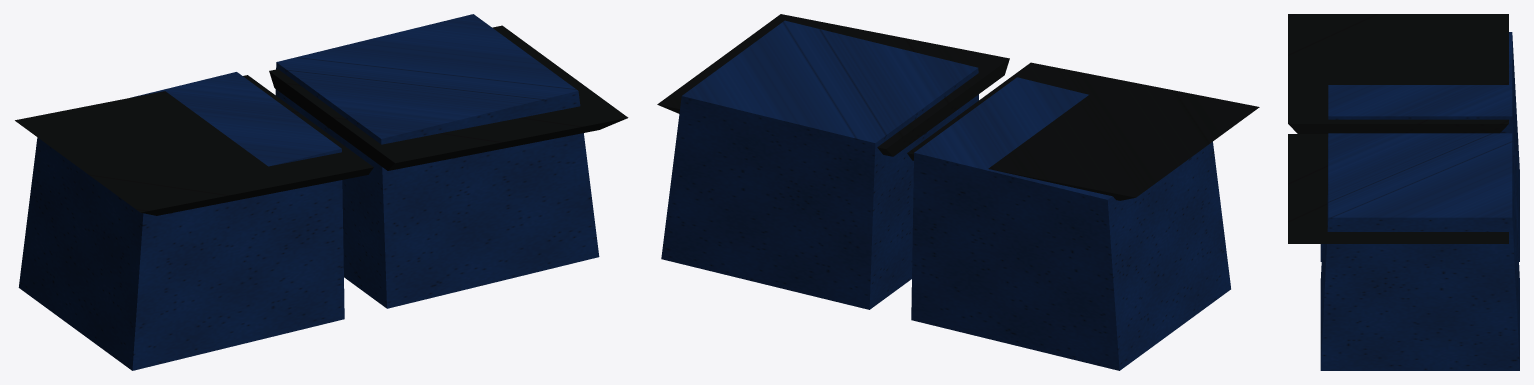
File: PROP-35FB9A42BCE6.glb
3 renders of one model, left to right at view 1: azimuth 30°, elevation 25°; view 2: azimuth 150°, elevation 25°; view 3: azimuth 270°, elevation 25°, orthographic. The views are drawn at different scales.
Visible parts, largest first — view 1: waste_container.002, bin_lid.002; view 2: waste_container.002, bin_lid.002; view 3: waste_container.002, bin_lid.002.
Boxes of the visible parts, <box> form: waste_container.002: <box>18,14,599,370</box>; bin_lid.002: <box>15,25,628,215</box>; waste_container.002: <box>661,20,1230,370</box>; bin_lid.002: <box>657,14,1259,200</box>; waste_container.002: <box>1320,32,1519,370</box>; bin_lid.002: <box>1288,14,1508,243</box>.
Bounding box in the file's own units: 1.1 × 0.3772 × 0.5186.
2 materials, 2 textured.
